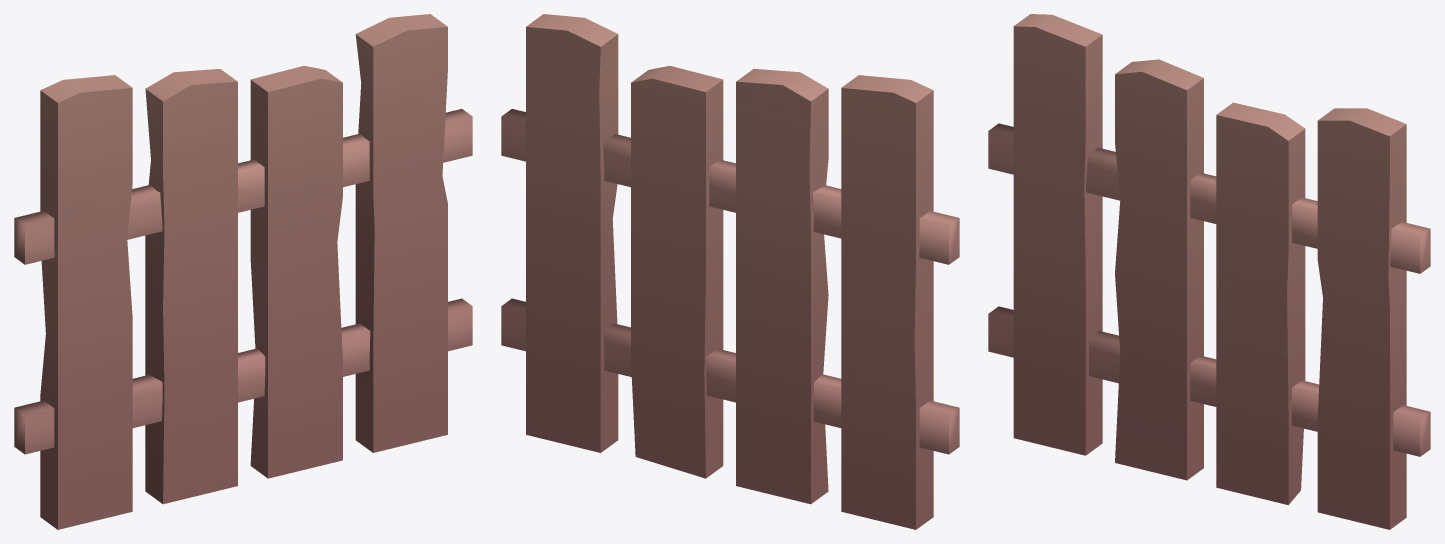
The model's file is Fence_Frontal3.glb.
3 renders of one model, left to right at view 1: azimuth 30°, elevation 25°; view 2: azimuth 150°, elevation 25°; view 3: azimuth 330°, elevation 25°, orthographic. The views are drawn at different scales.
Parts seen in each view (by area): view 1: Fence_Frontal3; view 2: Fence_Frontal3; view 3: Fence_Frontal3.
Part boxes in pixels (box(x1,y1,x2,y2)): Fence_Frontal3: box(14, 14, 472, 529); Fence_Frontal3: box(501, 14, 959, 529); Fence_Frontal3: box(988, 14, 1430, 529).
Size of the model in its own units: 0.5 by 0.4608 by 0.034.
Materials: 1 (1 with a texture image).
